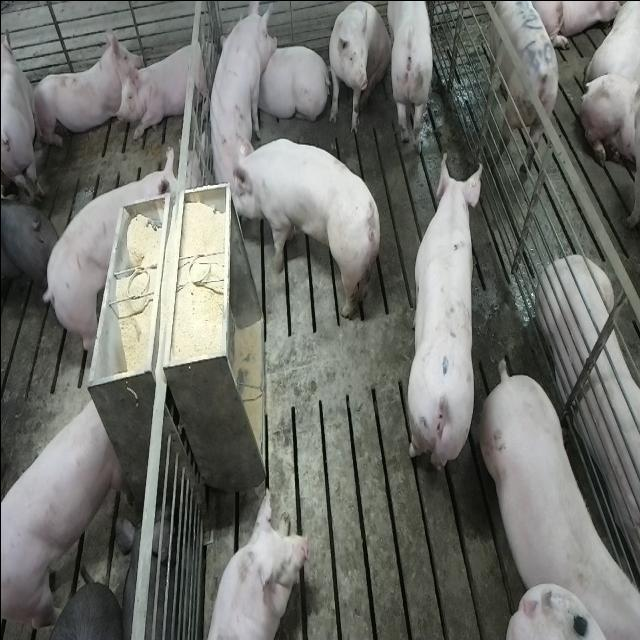Sitting: (204, 0, 274, 196), (326, 0, 390, 134)
Standing: (1, 392, 123, 632), (36, 156, 174, 358), (405, 149, 482, 480), (482, 2, 559, 170), (386, 2, 434, 152), (0, 192, 57, 316), (0, 21, 36, 200)
Sternal_lying: (538, 249, 640, 577), (201, 482, 307, 640), (29, 19, 139, 148), (118, 30, 214, 140), (252, 38, 326, 126)
